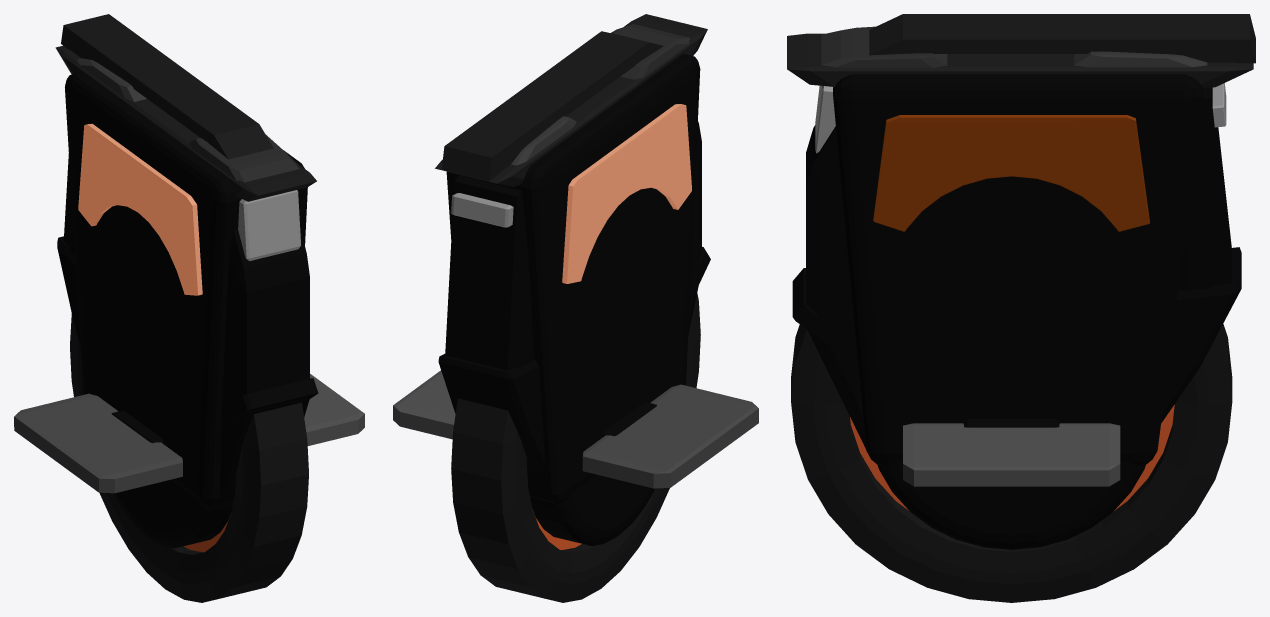
The picture shows the model from 3 angles, left to right: view 1: azimuth 30°, elevation 25°; view 2: azimuth 150°, elevation 25°; view 3: azimuth 270°, elevation 25°; orthographic projection. The views are drawn at different scales.
Visible parts, largest first — view 1: Cube, WheelAnimation, Куб, Куб.007, Куб.014, Куб.010, Куб.004, Куб.003, Куб.013, Куб.006, Куб.008, Куб.002 (+3 smaller); view 2: Cube, WheelAnimation, Куб.001, Куб.007, Куб.014, Куб.010, Куб.002, Куб.004, Куб.013, Куб.006, BrakeLights, Куб (+2 smaller); view 3: Cube, WheelAnimation, Куб.009, Куб.007, Куб.013, Куб, Куб.004, Куб.001, Куб.002, Куб.006, Куб.005, Куб.008 (+2 smaller).
Boxes of the visible parts, left/top/right/bottom form: Cube: left=65, top=73, right=307, bottom=548; WheelAnimation: left=70, top=313, right=308, bottom=602; Куб: left=220, top=229, right=309, bottom=500; Куб.007: left=61, top=14, right=273, bottom=159; Куб.014: left=14, top=393, right=182, bottom=493; Куб.010: left=78, top=123, right=202, bottom=295; Куб.004: left=55, top=45, right=316, bottom=201; Куб.003: left=238, top=190, right=300, bottom=260; Куб.013: left=304, top=374, right=364, bottom=445; Куб.006: left=189, top=134, right=298, bottom=182; Куб.008: left=220, top=378, right=318, bottom=426; Куб.002: left=57, top=236, right=80, bottom=345; Cube: left=446, top=54, right=700, bottom=545; WheelAnimation: left=451, top=293, right=700, bottom=602; Куб.001: left=445, top=175, right=533, bottom=370; Куб.007: left=441, top=31, right=663, bottom=181; Куб.014: left=582, top=384, right=758, bottom=488; Куб.010: left=562, top=104, right=691, bottom=283; Куб.002: left=438, top=354, right=545, bottom=474; Куб.004: left=435, top=14, right=707, bottom=187; Куб.013: left=393, top=370, right=455, bottom=439; Куб.006: left=611, top=24, right=690, bottom=79; BrakeLights: left=451, top=193, right=513, bottom=227; Куб: left=688, top=121, right=701, bottom=334; Cube: left=833, top=74, right=1203, bottom=549; WheelAnimation: left=791, top=324, right=1232, bottom=602; Куб.009: left=873, top=115, right=1149, bottom=231; Куб.007: left=869, top=14, right=1255, bottom=63; Куб.013: left=903, top=423, right=1120, bottom=486; Куб: left=806, top=125, right=866, bottom=449; Куб.004: left=787, top=33, right=1253, bottom=88; Куб.001: left=1178, top=87, right=1231, bottom=290; Куб.002: left=1161, top=247, right=1241, bottom=423; Куб.006: left=821, top=26, right=947, bottom=68; Куб.005: left=1074, top=51, right=1207, bottom=67; Куб.008: left=792, top=268, right=857, bottom=360.
Bounding box in the file's own units: 2.46 × 4.32 × 3.26.
